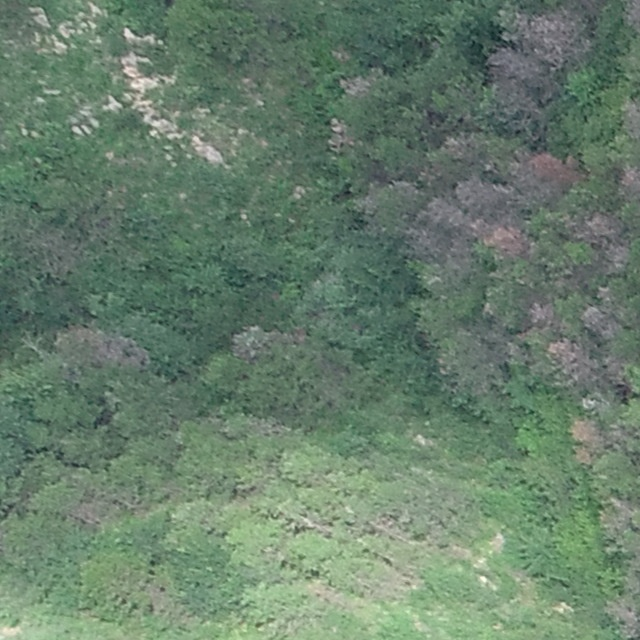unhealthy: (519, 5, 589, 68), (487, 46, 544, 117), (568, 209, 630, 273), (69, 326, 155, 372), (516, 151, 582, 203), (454, 174, 517, 217), (543, 337, 597, 386), (484, 220, 535, 259), (599, 497, 639, 543), (603, 595, 640, 639), (578, 302, 621, 338), (421, 194, 463, 230), (64, 496, 111, 527), (231, 323, 268, 360), (569, 416, 602, 455), (440, 131, 480, 161), (407, 227, 440, 262), (326, 117, 358, 153), (600, 352, 631, 388), (337, 73, 374, 98), (526, 299, 557, 328), (621, 94, 639, 141), (618, 163, 640, 199), (624, 0, 640, 35), (19, 333, 42, 355)
